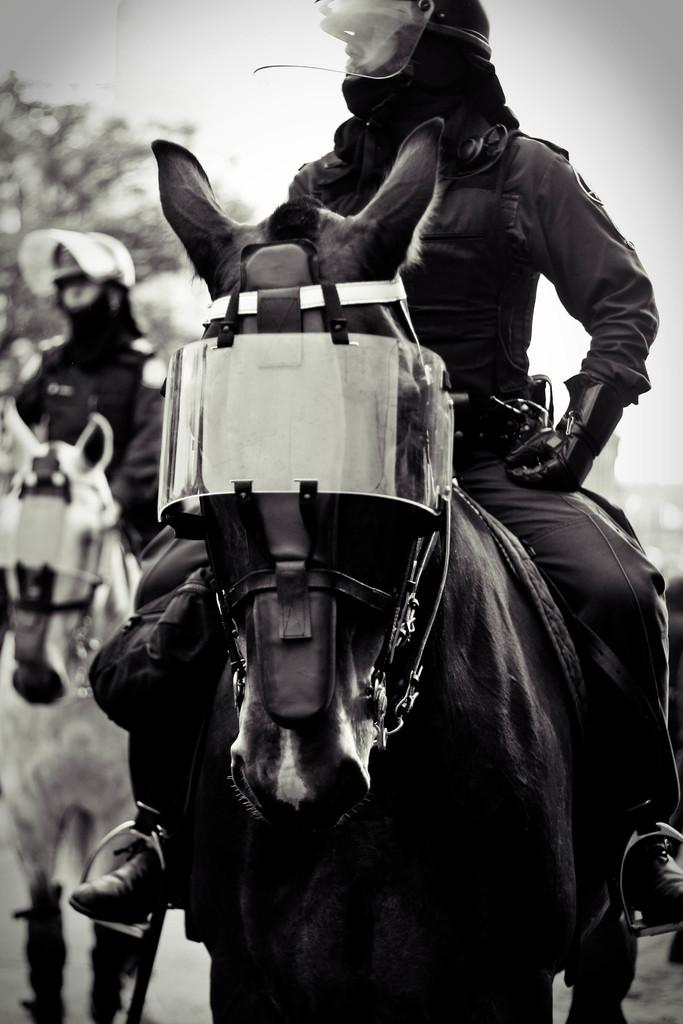helmet: (253, 0, 492, 98), (17, 228, 136, 318)
